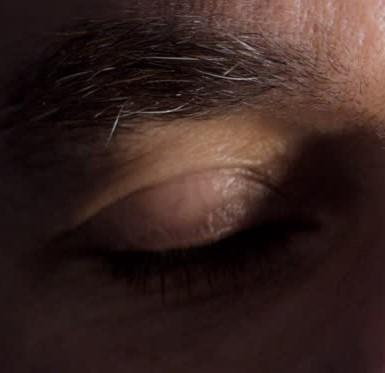close: (67, 128, 342, 309)
